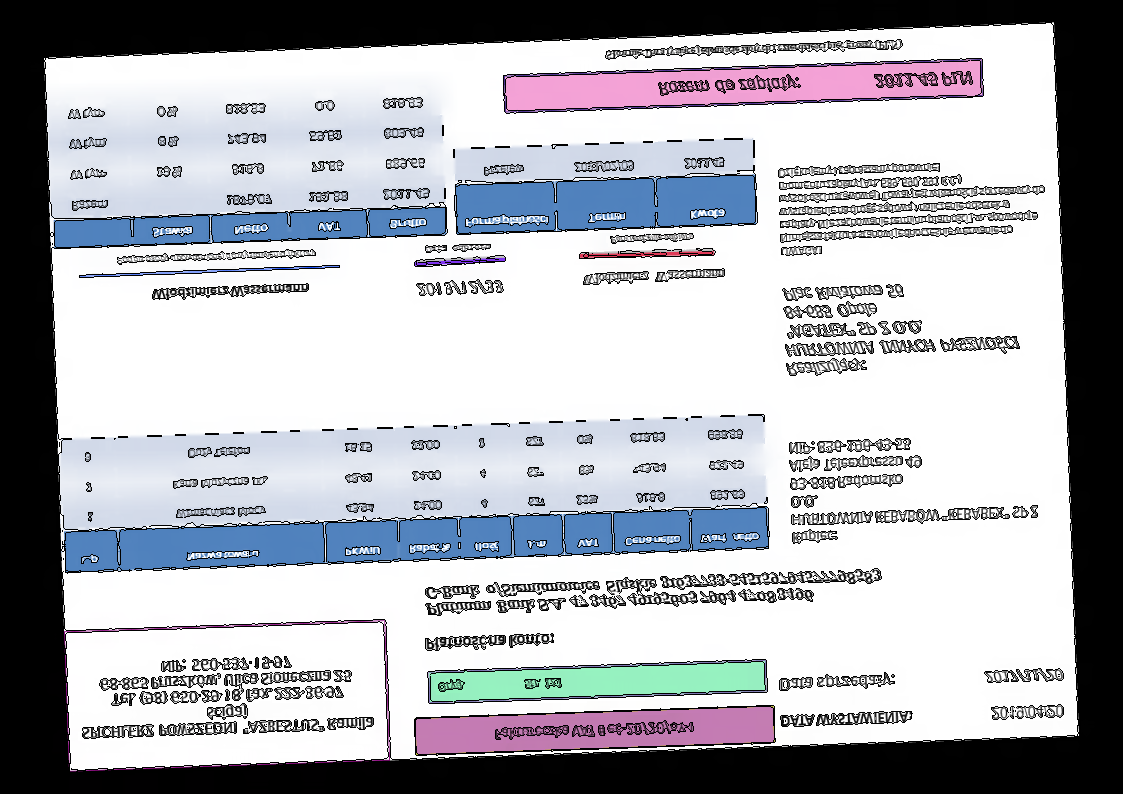Table: (58, 412, 772, 576), (47, 82, 449, 251), (451, 136, 760, 237)
TextBox: (786, 429, 1041, 547), (77, 649, 378, 743), (775, 157, 1051, 259), (779, 274, 1023, 381), (422, 564, 887, 620), (653, 65, 975, 101), (602, 36, 906, 64), (490, 717, 695, 744), (113, 246, 319, 269), (148, 279, 313, 306), (779, 706, 916, 733), (423, 628, 556, 655), (578, 266, 729, 289), (436, 674, 565, 697), (778, 670, 898, 694), (413, 277, 505, 300), (981, 665, 1065, 688), (989, 703, 1068, 724), (607, 230, 696, 247), (420, 240, 495, 259)
